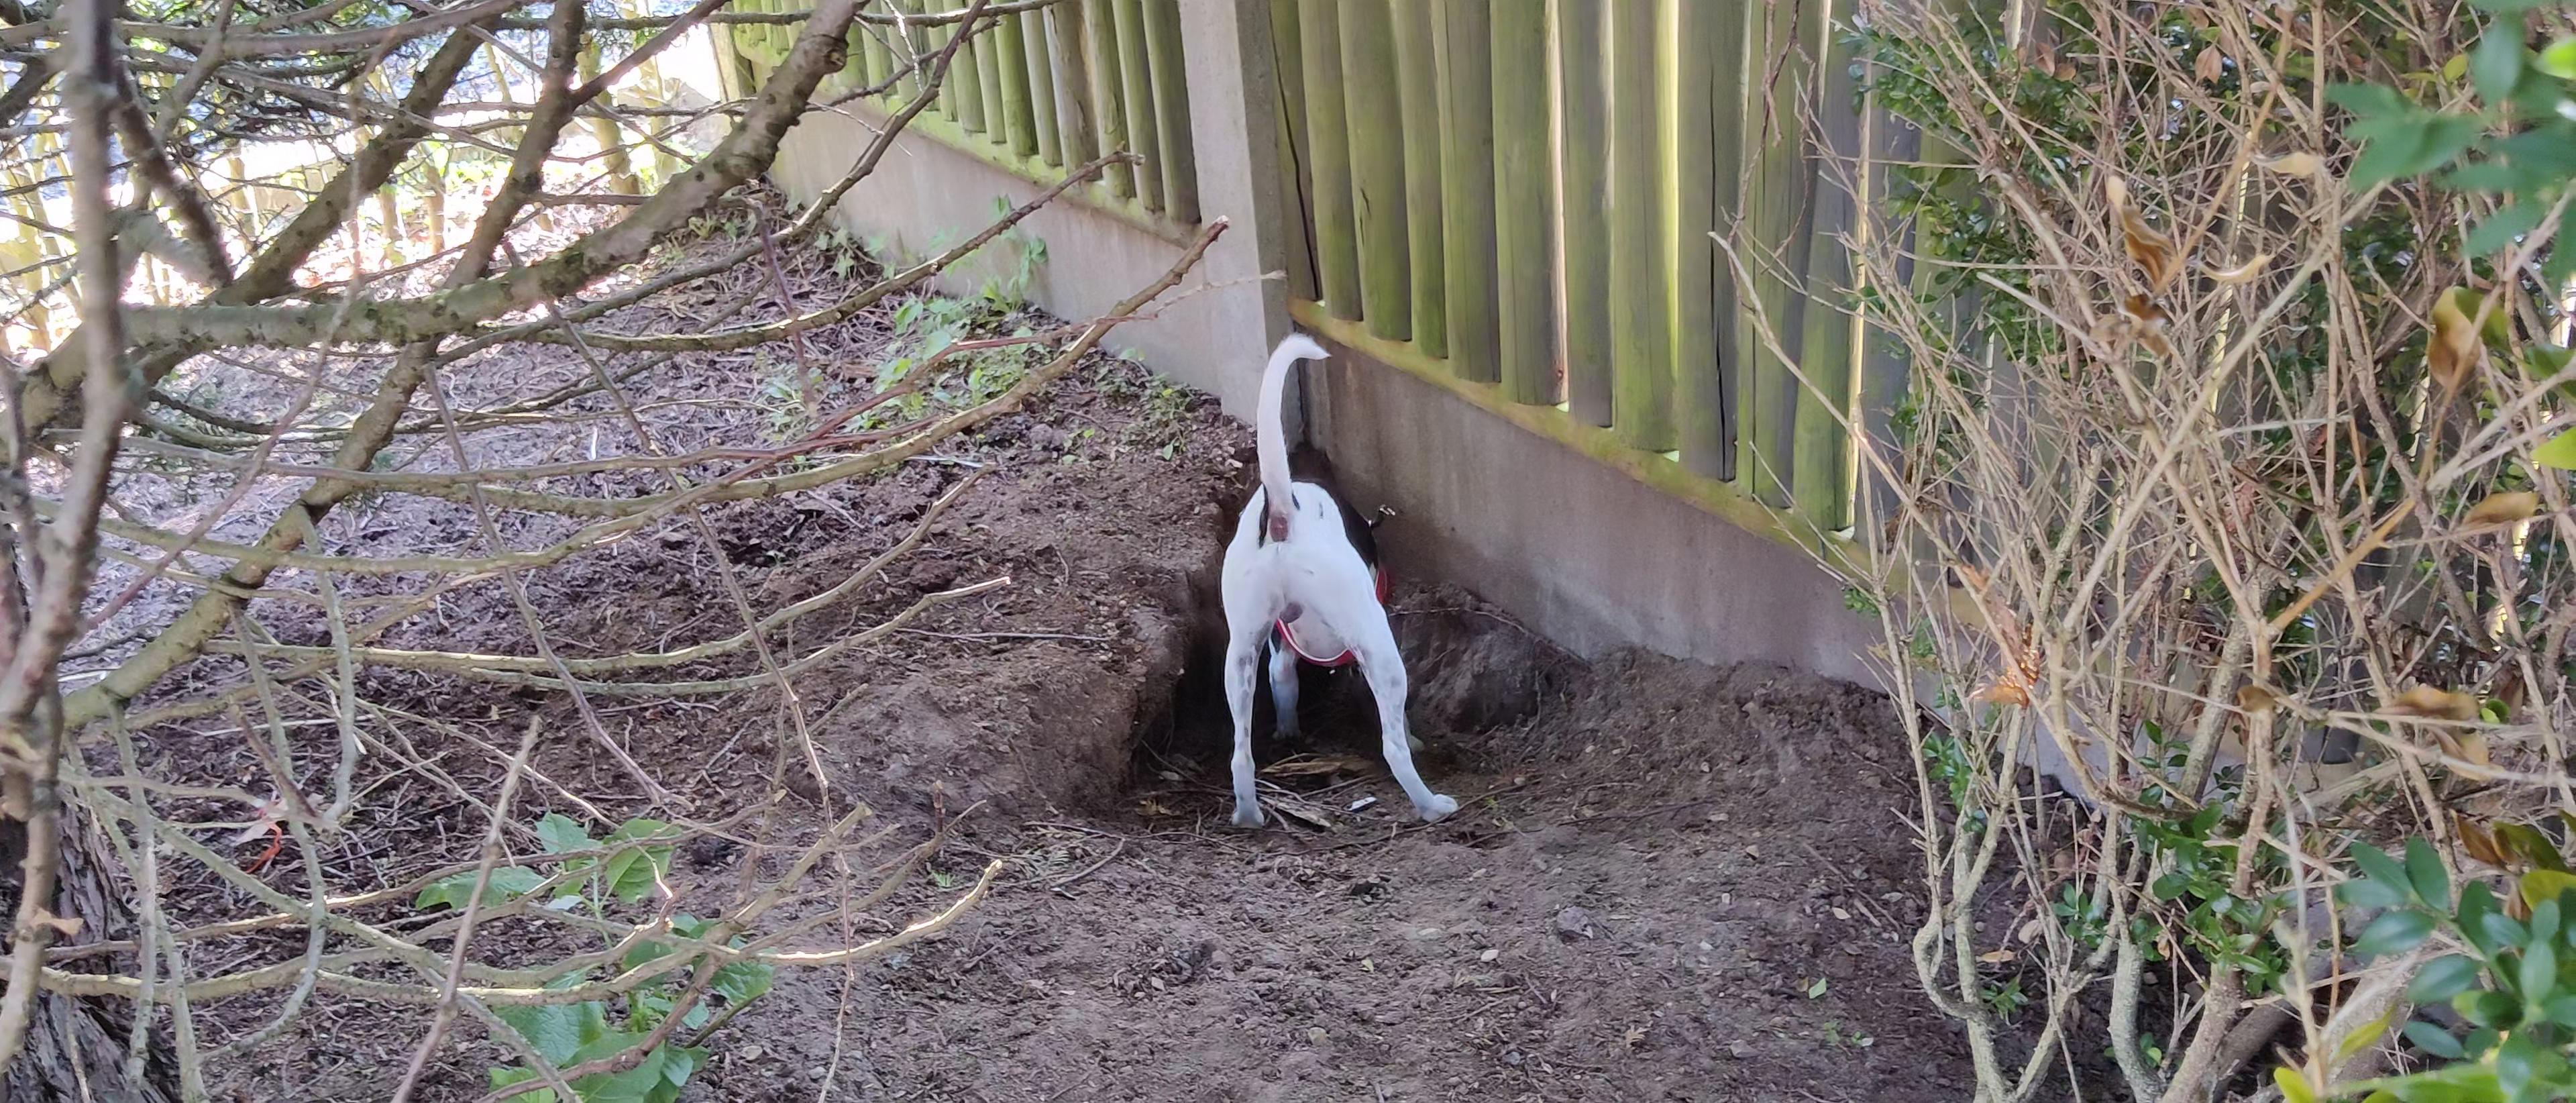Dog: (1196, 329, 1482, 847)
